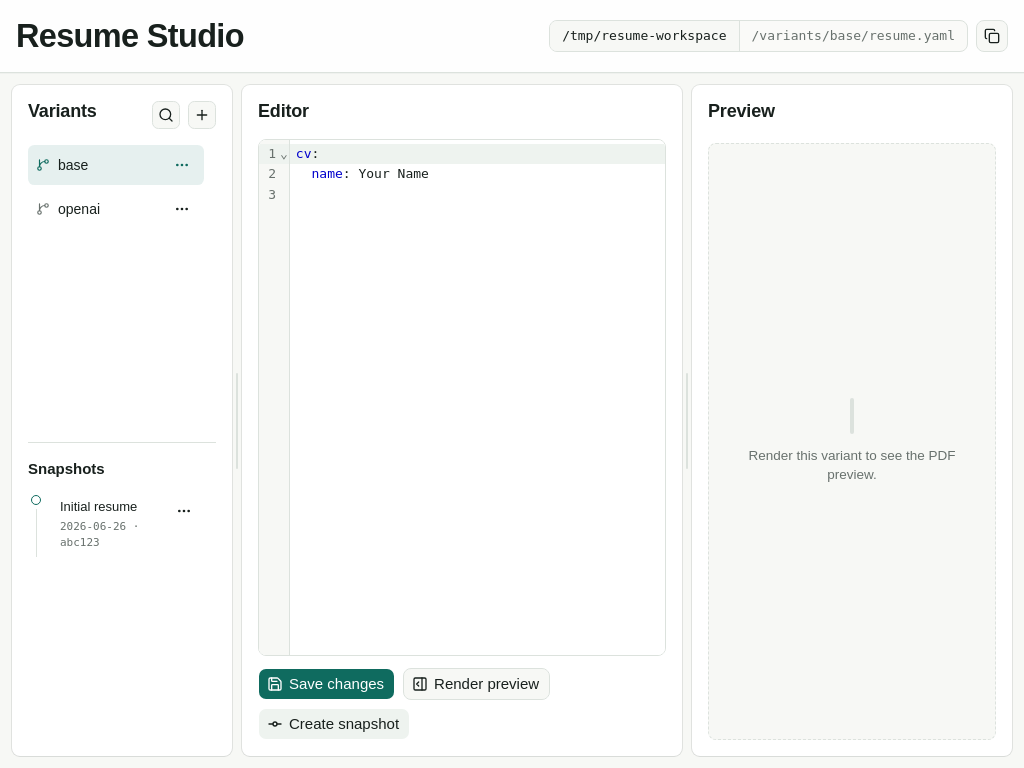
Test case: Resume Studio app › shows render failure status with diagnostic logs in the popup
Click the button "Render preview": (477, 684) [403,668,550,700]
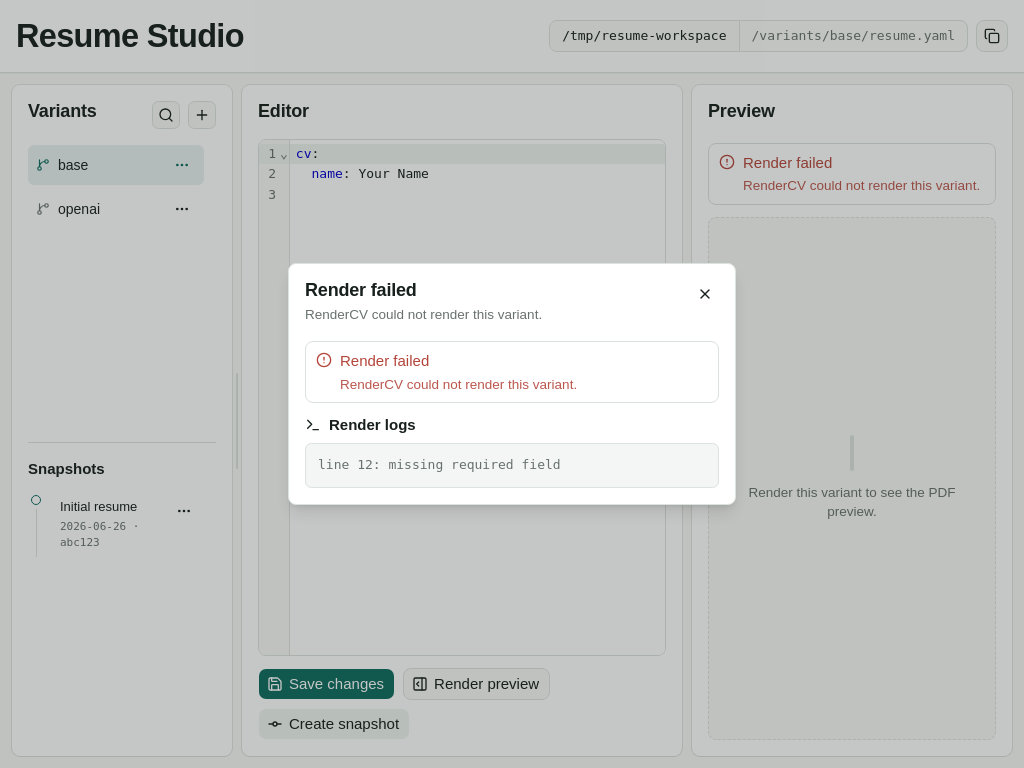
Now the dialog "Render failed" is shown
Now the text "RenderCV could not render this variant." in the row of ": Your Name" is shown, box [743,178,980,193]
Now the text "line 12: missing required field" is shown, box [305,443,719,488]
